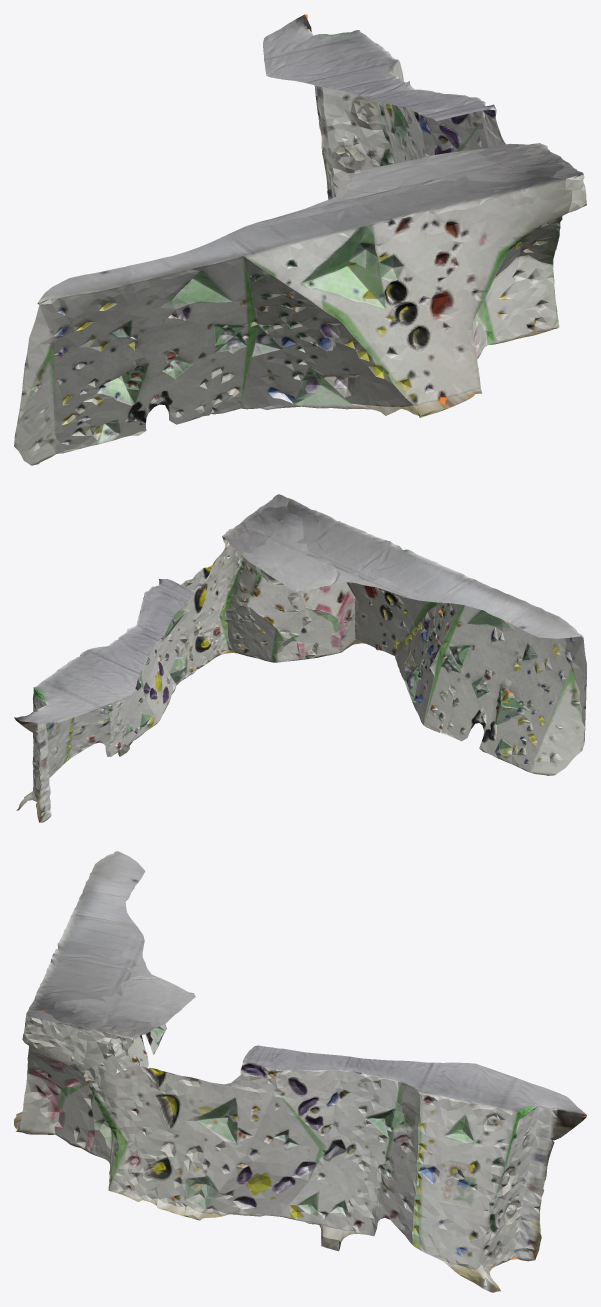
File: thumb.glb
The picture shows the model from 3 angles, top to bottom: view 1: azimuth 30°, elevation 25°; view 2: azimuth 150°, elevation 25°; view 3: azimuth 270°, elevation 25°; orthographic projection. The views are drawn at different scales.
Parts seen in each view (by area): view 1: world; view 2: world; view 3: world.
Part boxes in pixels (x1,y1,x2,y2): world: (14, 14, 586, 465); world: (14, 494, 586, 822); world: (14, 851, 586, 1292).
Bounding box in the file's own units: 20.45 × 8.99 × 19.77.
1 material, 1 textured.
